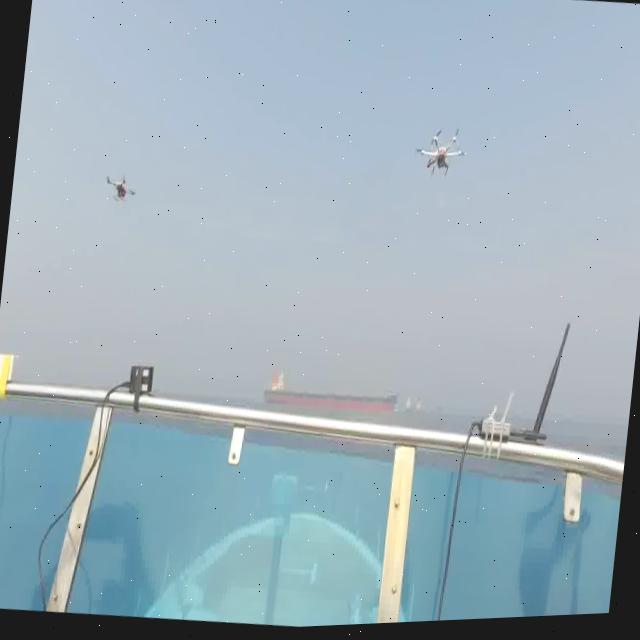drone: (86, 153, 154, 228)
